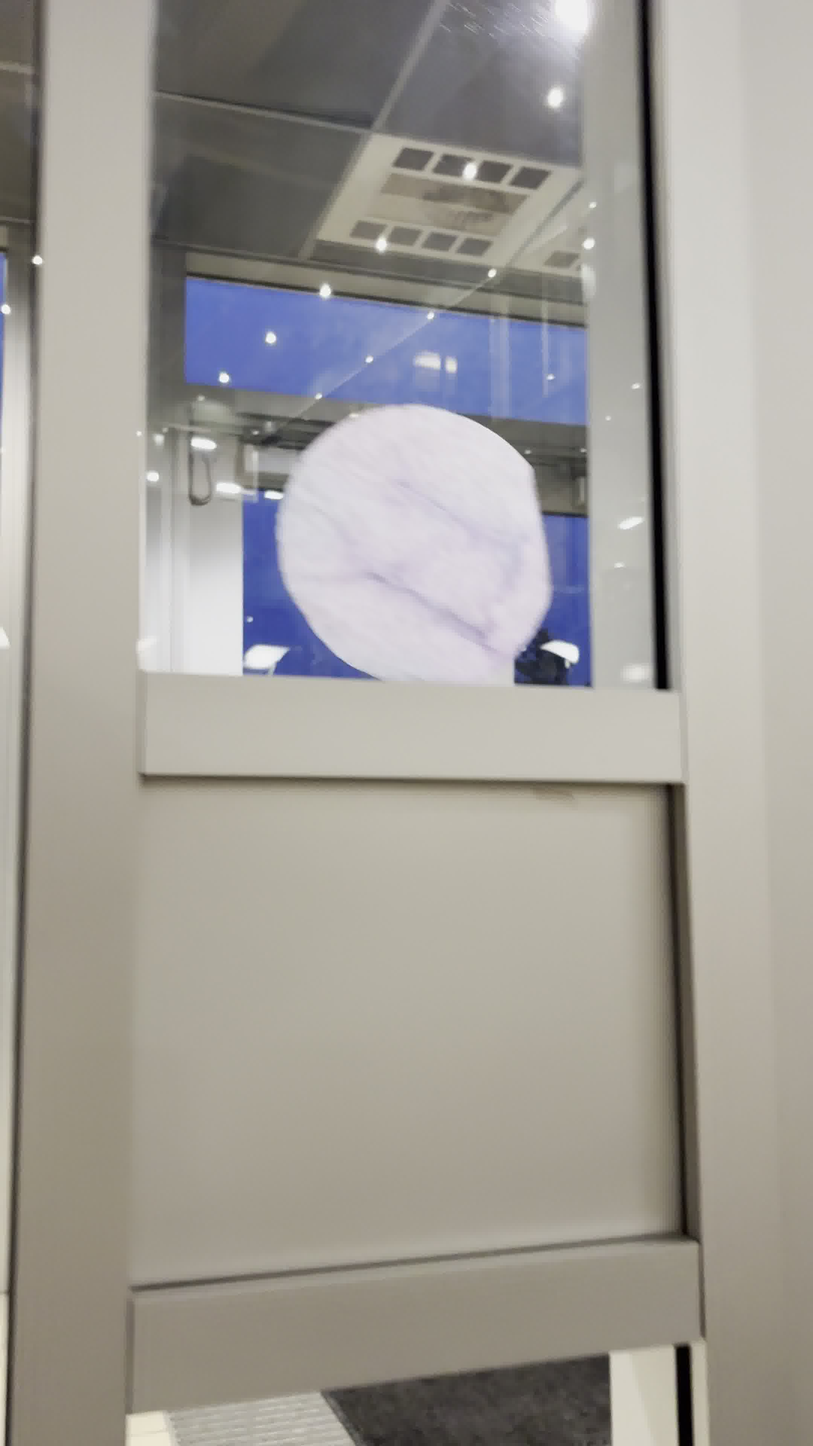Target: (274, 398, 556, 692)
